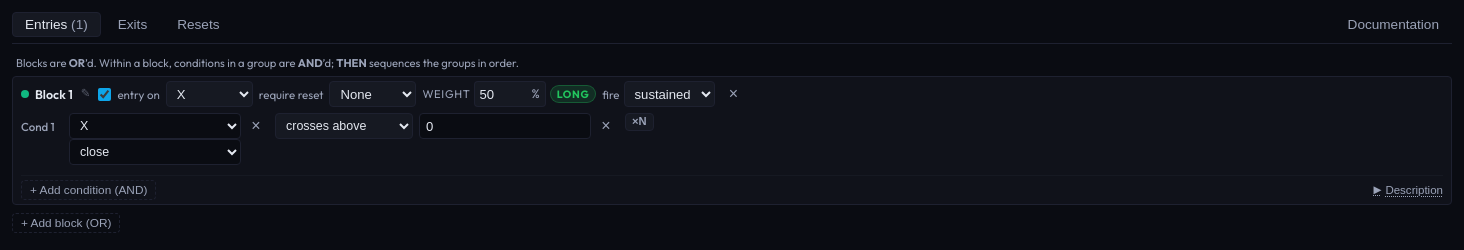
Scenario: BlockEditor (v4 / two-section model) › cross ×N / within W controls › clicking ×N reveals the count/window inputs
The image size is (1464, 250).
Click the button with test id "cross-expand-0-0" at x=639, y=122, box [625, 113, 654, 131]
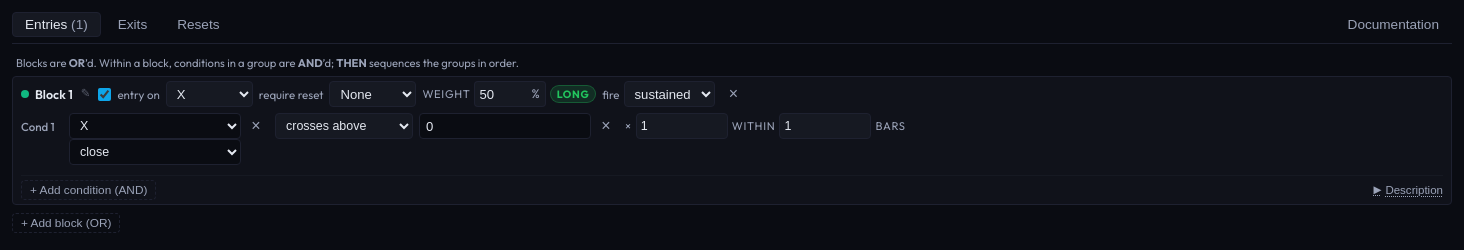
Check: the element with test id "cross-controls-0-0" is shown, box [625, 113, 906, 139]
Check: the number field with test id "cross-count-0-0" is shown, box [636, 113, 728, 139]
Check: the number field with test id "cross-window-0-0" is shown, box [779, 113, 871, 139]
